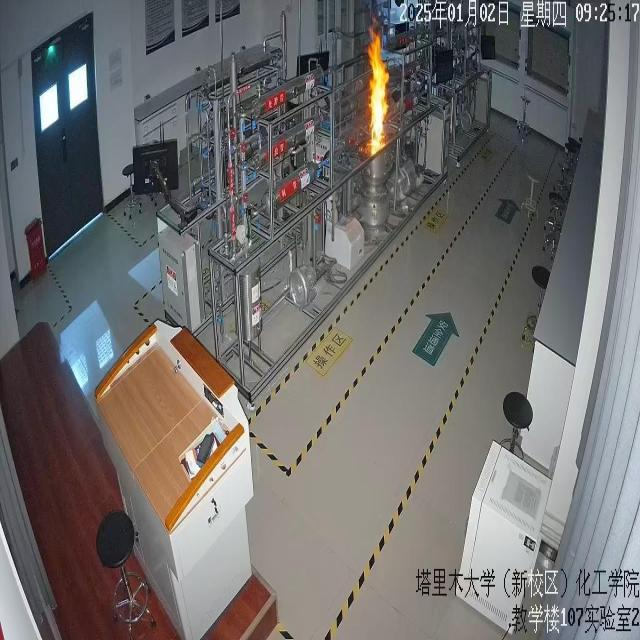smoke: (366, 29, 392, 154)
